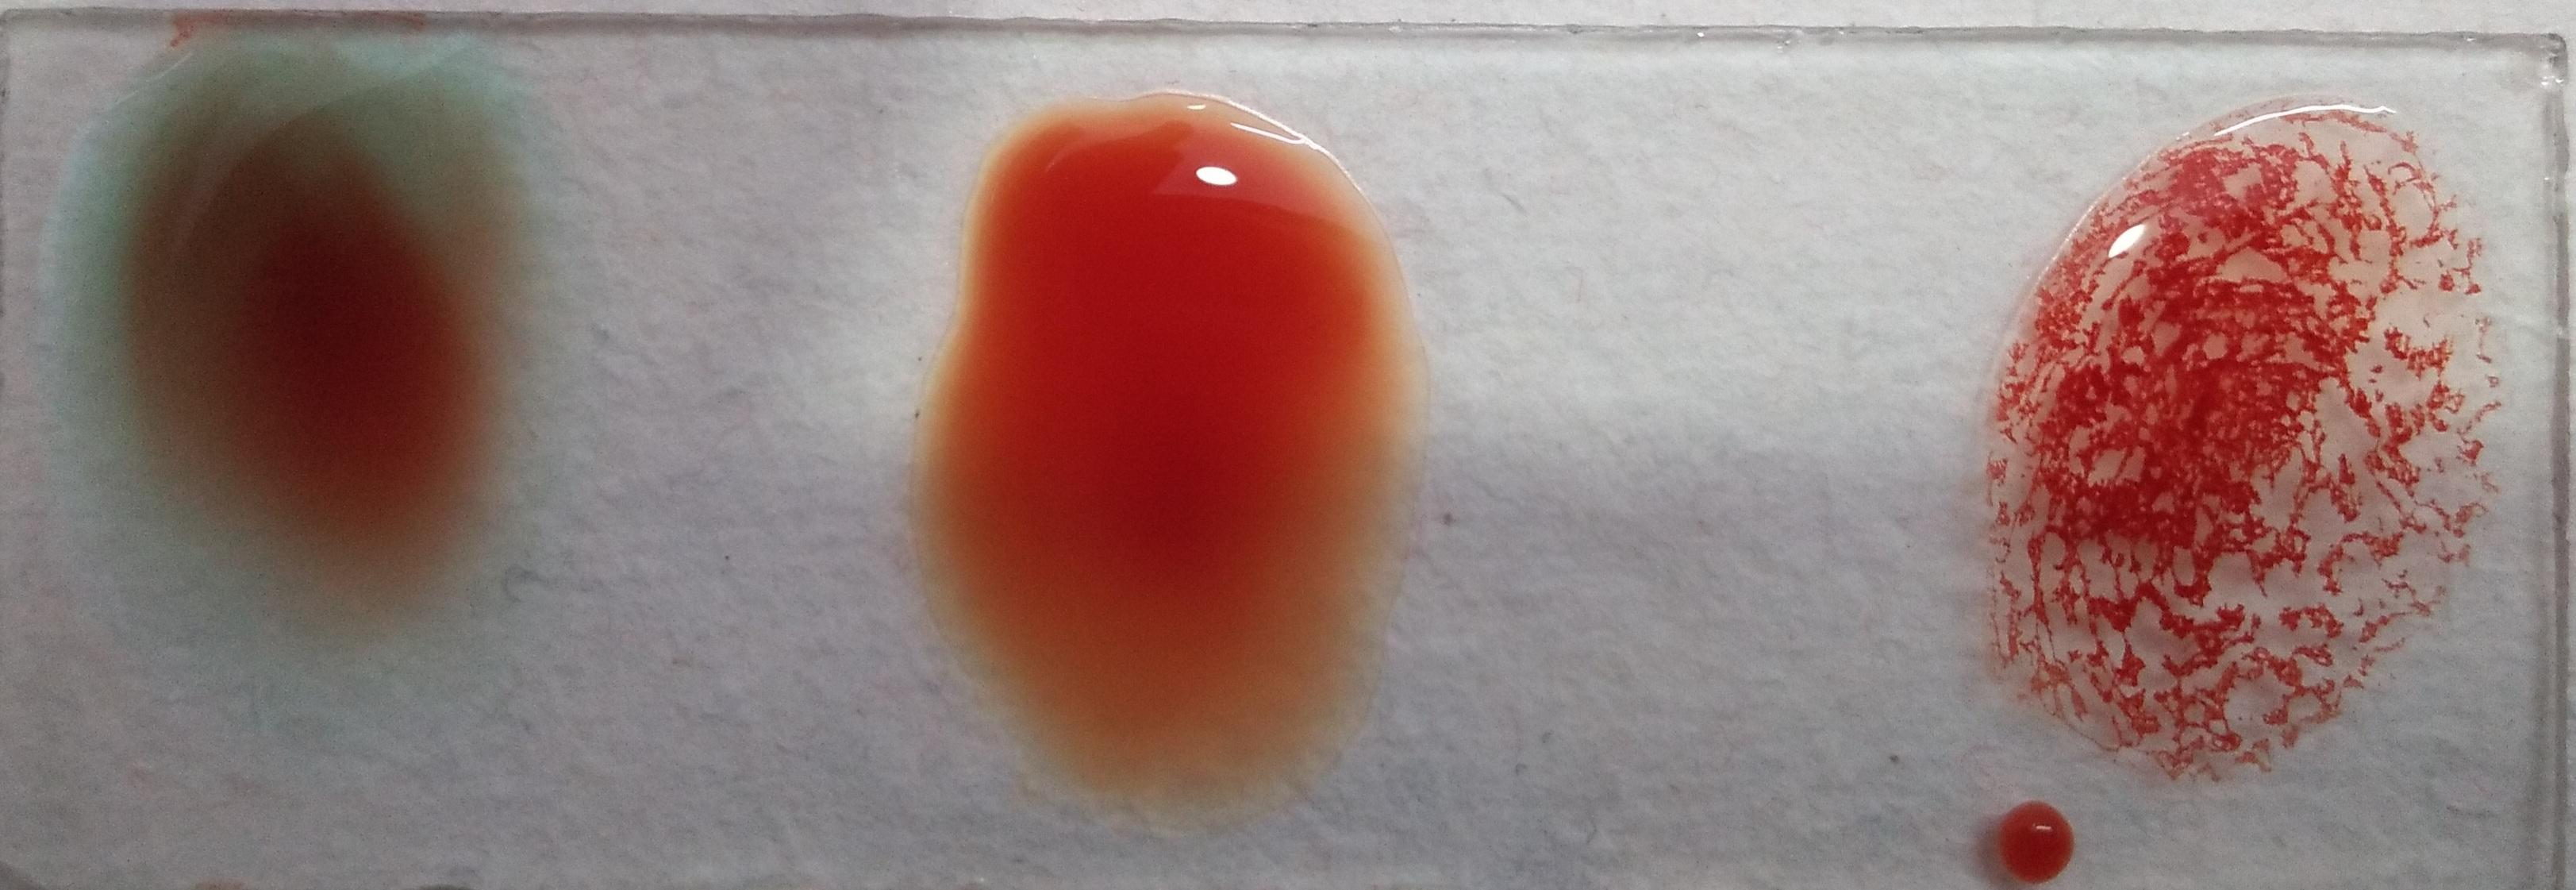D: (1981, 107, 2494, 760)
